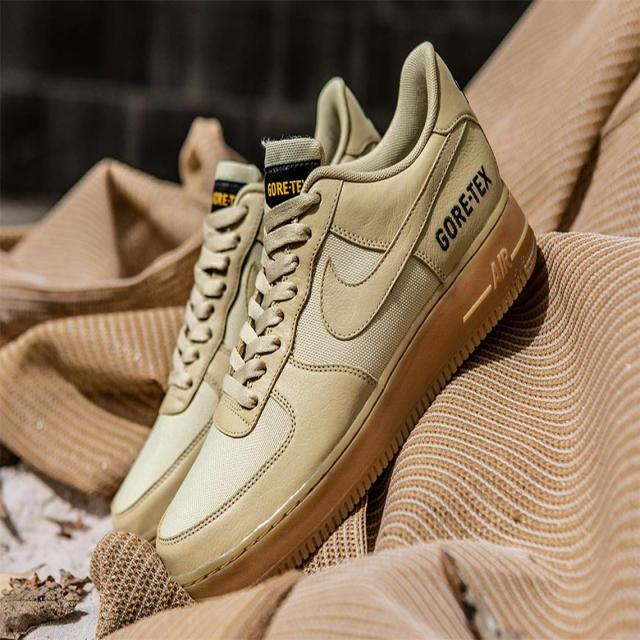shoe: (152, 31, 542, 606)
